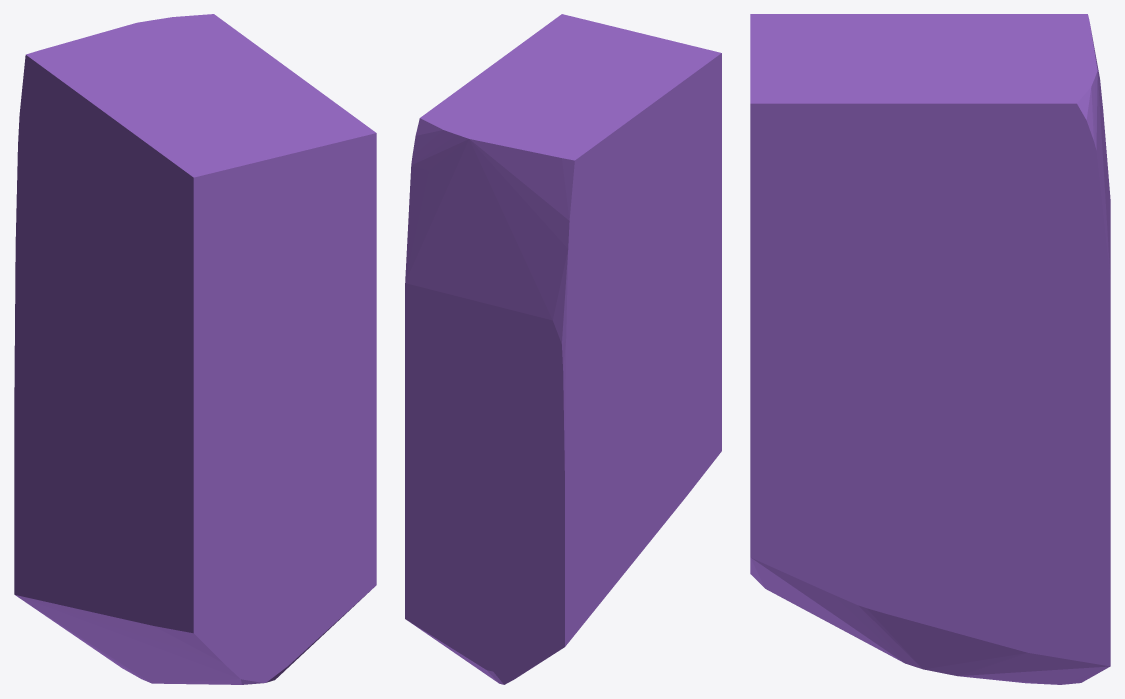
3 views of the same model, side by side, from view 1: azimuth 30°, elevation 25°; view 2: azimuth 150°, elevation 25°; view 3: azimuth 270°, elevation 25° (orthographic). The views are drawn at different scales.
Size of the model in its own units: 0.0105 by 0.0341 by 0.0178.
